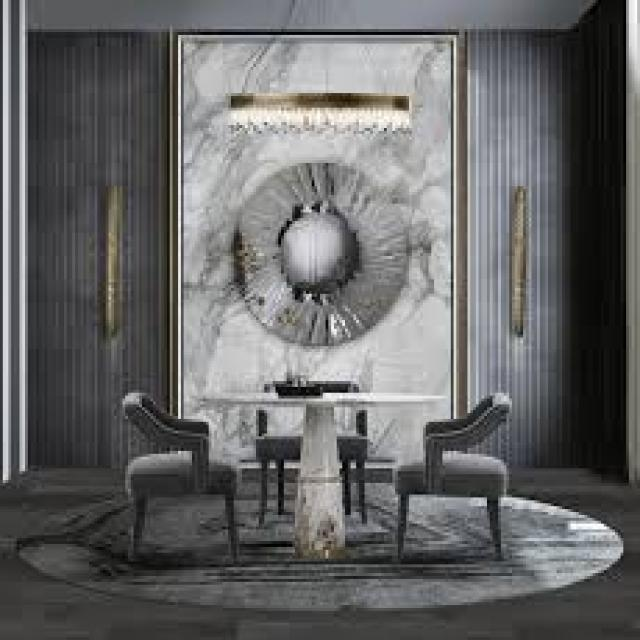Chair: (124, 392, 245, 568), (395, 389, 520, 542)
Table: (211, 385, 438, 556)
